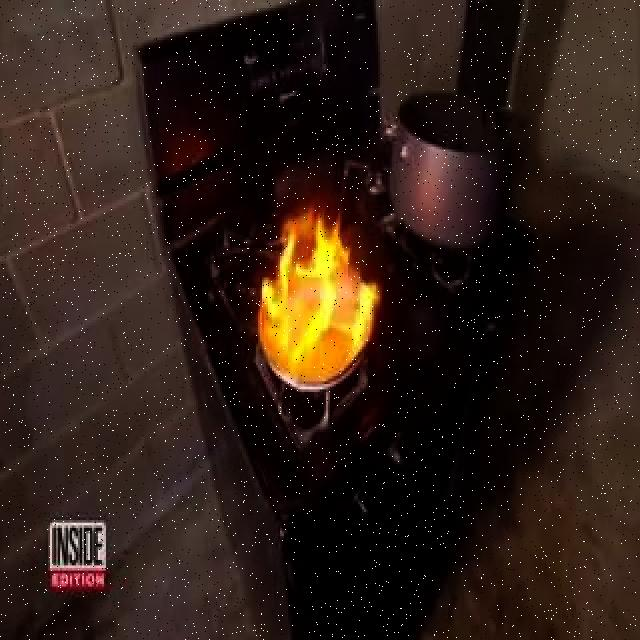fire: (258, 220, 380, 383)
